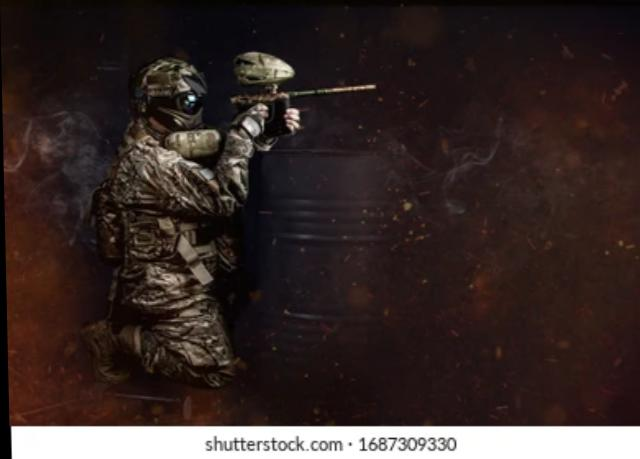other: (108, 68, 258, 381)
